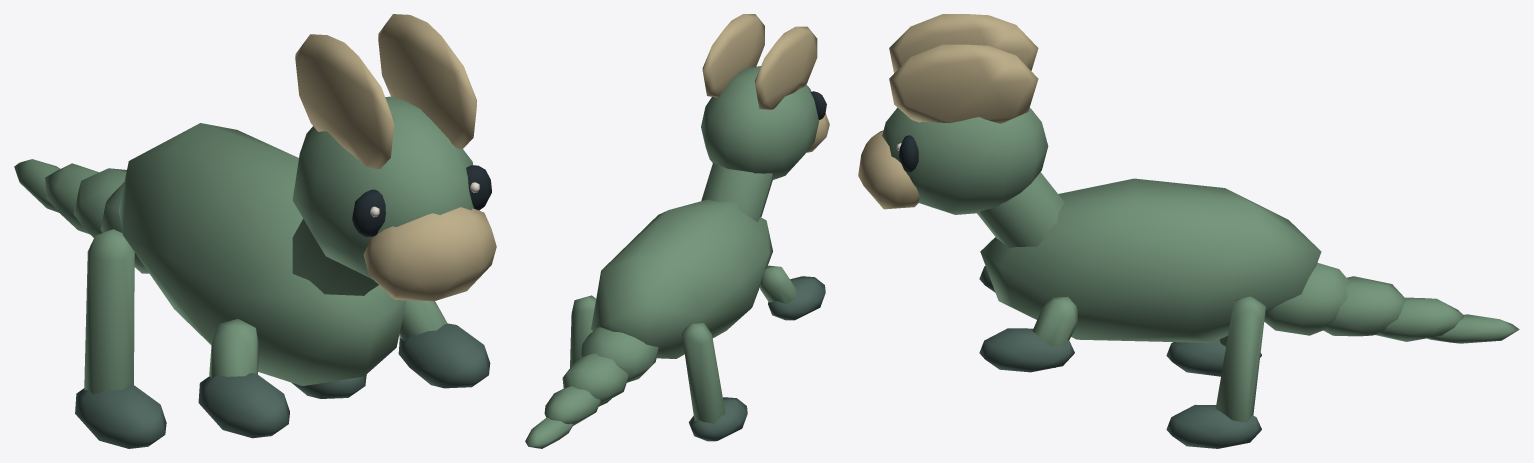
The model's file is org_dilophosaurus.glb.
3 renders of one model, left to right at view 1: azimuth 30°, elevation 25°; view 2: azimuth 150°, elevation 25°; view 3: azimuth 270°, elevation 25°, orthographic. The views are drawn at different scales.
Parts seen in each view (by area): view 1: Head, Body, Leg_BR, Arm_R, Tail, Arm_L, Eye_R, Leg_BL, Eye_L; view 2: Body, Head, Tail, Leg_BR, Arm_R, Leg_BL; view 3: Body, Head, Tail, Leg_BL, Arm_L, Leg_BR.
Part boxes in pixels (box(x1,y1,x2,y2)): Head: box(292, 14, 496, 301); Body: box(118, 123, 406, 385); Leg_BR: box(75, 229, 166, 448); Arm_R: box(198, 319, 289, 438); Tail: box(14, 159, 149, 273); Arm_L: box(398, 300, 490, 388); Eye_R: box(352, 189, 385, 236); Leg_BL: box(291, 374, 366, 398); Eye_L: box(466, 165, 491, 210); Body: box(591, 199, 772, 358); Head: box(701, 14, 829, 222); Tail: box(525, 327, 658, 448); Leg_BR: box(681, 323, 747, 441); Arm_R: box(760, 265, 825, 320); Leg_BL: box(570, 295, 611, 406); Body: box(980, 178, 1321, 342); Head: box(858, 14, 1064, 248); Tail: box(1264, 262, 1519, 343); Leg_BL: box(1166, 296, 1265, 448); Arm_L: box(979, 297, 1078, 372); Leg_BR: box(1166, 335, 1261, 376).
Size of the model in its own units: 0.7862 by 1.4 by 2.21.
